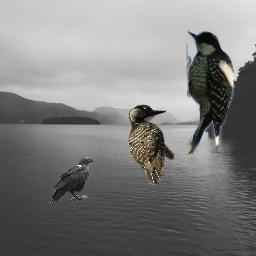Crow: (48, 157, 94, 204)
Woodpecker: (186, 30, 235, 154), (128, 104, 176, 188)
